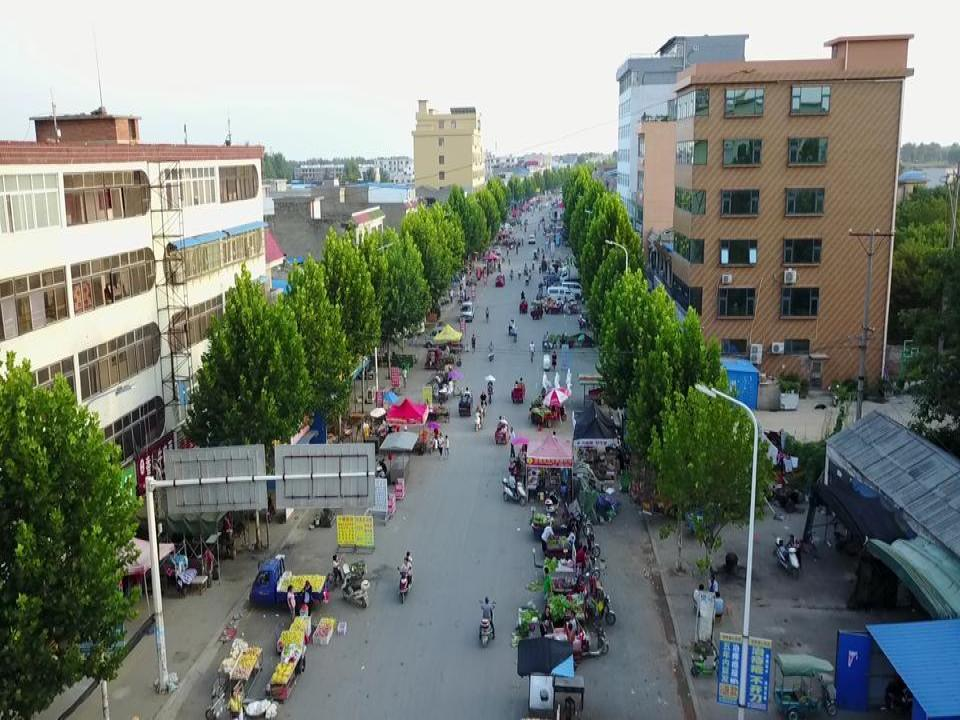car: (496, 273, 505, 287), (528, 236, 536, 244)
van: (251, 557, 327, 604), (425, 327, 458, 348), (547, 287, 577, 301), (562, 282, 585, 298), (460, 302, 475, 322)
